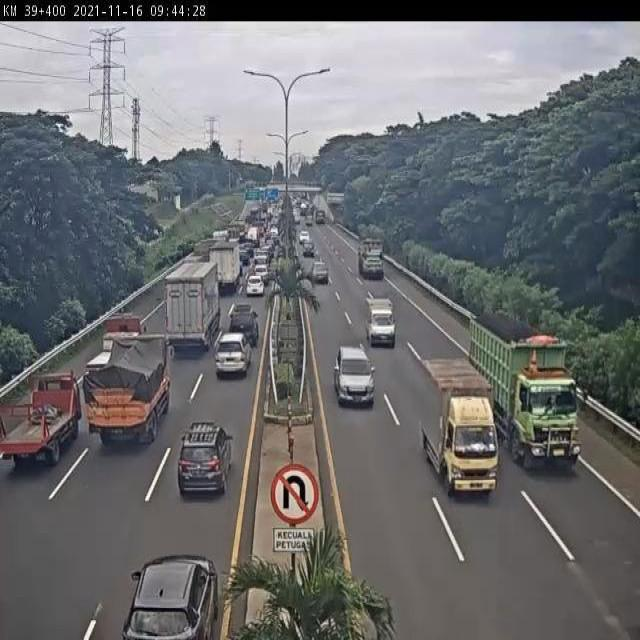car: (179, 423, 233, 493), (334, 345, 375, 408), (212, 333, 247, 379), (228, 305, 259, 347), (311, 260, 328, 283), (245, 276, 264, 296)
truck: (468, 318, 582, 470), (420, 357, 500, 496), (84, 336, 175, 447), (0, 376, 75, 473), (165, 263, 219, 352), (82, 313, 143, 376), (365, 299, 398, 352), (210, 244, 239, 289)
